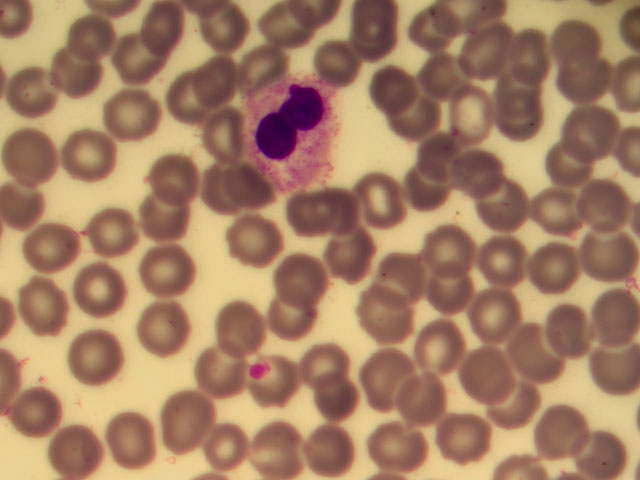RBC: (65, 11, 121, 65), (53, 45, 109, 99), (10, 64, 66, 118), (7, 131, 63, 185), (63, 134, 119, 188), (99, 88, 155, 142), (114, 30, 170, 84), (142, 3, 198, 57), (194, 50, 250, 104), (161, 74, 217, 128), (188, 105, 244, 159), (197, 151, 253, 205), (231, 174, 287, 228), (137, 153, 193, 207), (143, 189, 199, 243), (82, 210, 138, 264), (30, 221, 86, 275), (4, 185, 60, 239), (18, 282, 74, 336), (73, 259, 129, 313), (139, 246, 195, 300), (137, 308, 193, 362), (65, 328, 121, 382), (17, 385, 73, 439), (52, 424, 108, 478), (105, 415, 161, 469), (162, 398, 218, 452), (190, 342, 246, 396), (206, 304, 262, 358), (256, 285, 312, 339), (274, 250, 330, 304), (226, 212, 282, 266), (285, 190, 341, 244), (326, 186, 382, 240), (353, 169, 409, 223), (389, 161, 445, 215), (409, 135, 465, 189), (441, 81, 497, 135), (394, 96, 450, 150), (375, 71, 431, 125), (324, 40, 380, 94), (342, 23, 398, 77), (340, 2, 396, 56), (410, 11, 466, 65), (465, 2, 521, 56), (461, 26, 517, 80), (495, 25, 551, 79), (501, 51, 557, 105), (499, 78, 555, 132), (499, 107, 555, 161), (444, 136, 500, 190), (491, 183, 547, 237), (422, 215, 478, 269), (377, 241, 433, 295), (347, 292, 403, 346), (426, 269, 482, 323), (468, 294, 524, 348), (479, 230, 535, 284), (522, 234, 578, 288), (531, 181, 587, 235), (573, 174, 629, 228), (555, 144, 611, 198), (573, 100, 629, 154), (562, 54, 618, 108), (558, 20, 614, 74), (584, 226, 640, 280), (584, 280, 640, 334), (584, 330, 640, 384), (538, 299, 594, 353), (502, 322, 558, 376), (461, 346, 517, 400), (487, 378, 543, 432), (520, 396, 576, 450), (558, 426, 614, 480), (442, 415, 498, 469), (395, 377, 451, 431), (363, 354, 419, 408), (411, 326, 467, 380), (302, 336, 358, 390), (311, 366, 367, 420), (245, 357, 301, 411), (252, 422, 308, 476), (299, 426, 355, 480), (213, 425, 269, 479), (366, 424, 422, 478), (271, 1, 327, 54)
WBC: (243, 81, 342, 183)
